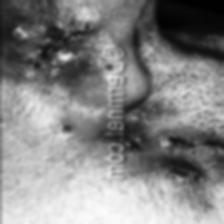Non-Cancerous Skin Condition: (2, 9, 78, 110), (134, 124, 224, 208), (35, 116, 79, 144)
